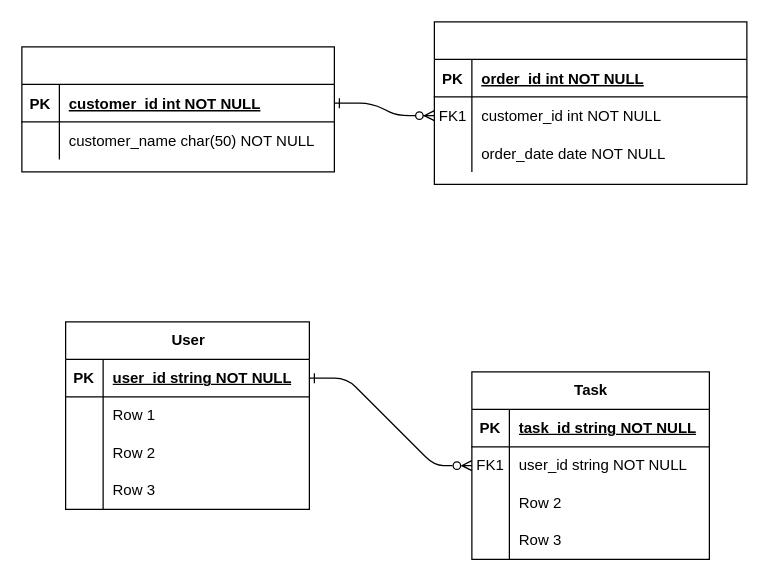
Some shapes in this 769 by 581 pixel diagram are drawn without their labels. Here are the shapes that lost their labels. From the top down, the box of each, then its label:
(21, 46, 334, 172): Customers
(433, 21, 747, 184): Orders
